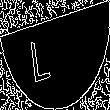L_N: (43, 27, 67, 83)
